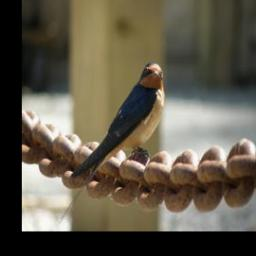Swallow: (57, 61, 167, 225)
